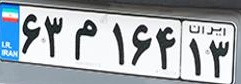character: (71, 15, 103, 63), (129, 19, 155, 70), (41, 11, 67, 60), (154, 21, 178, 74), (19, 12, 43, 55), (207, 36, 230, 80), (108, 17, 127, 69), (187, 35, 205, 79)
